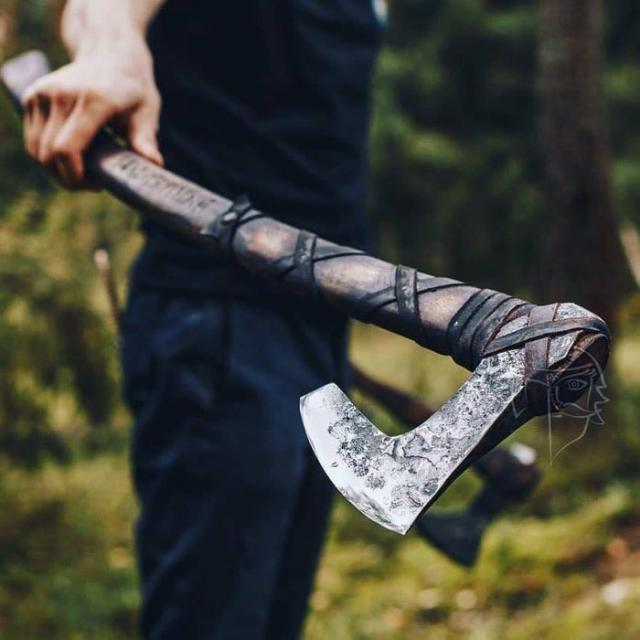axe: (1, 57, 614, 537)
